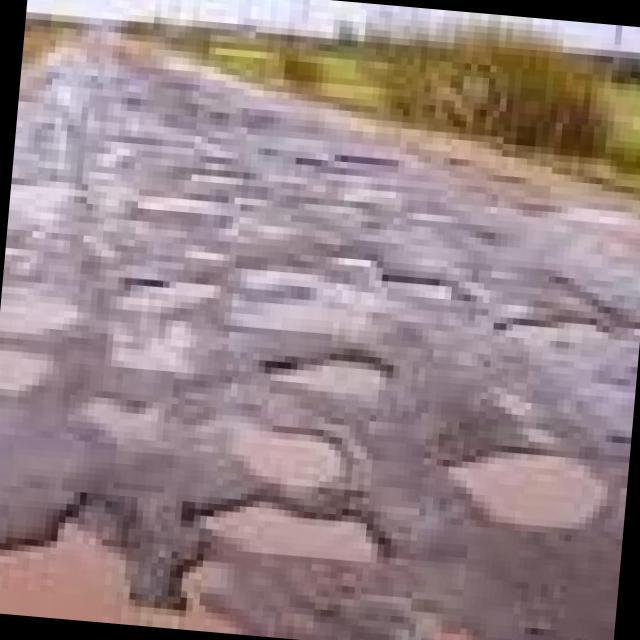Pothole: (454, 454, 601, 529), (0, 542, 122, 624), (218, 506, 377, 563), (0, 286, 76, 396), (130, 280, 206, 370), (238, 430, 340, 487), (289, 358, 379, 396), (230, 298, 327, 333), (499, 313, 596, 338), (105, 405, 157, 446), (393, 275, 446, 292)
